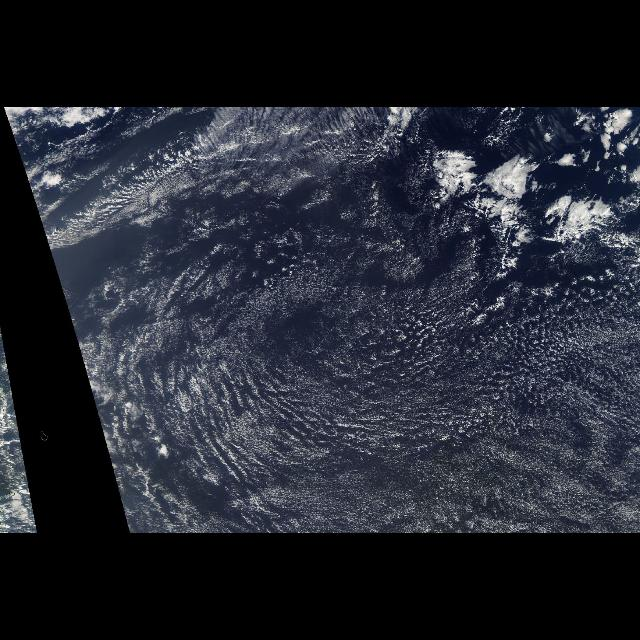Flower: (427, 142, 617, 255)
Sugar: (67, 107, 639, 533)
